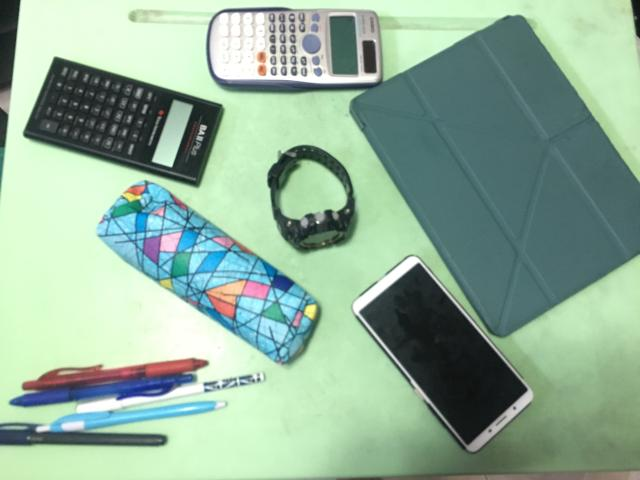Mobile phone: (351, 256, 533, 455)
Pen: (0, 359, 265, 448)
Watch: (266, 145, 357, 254)
